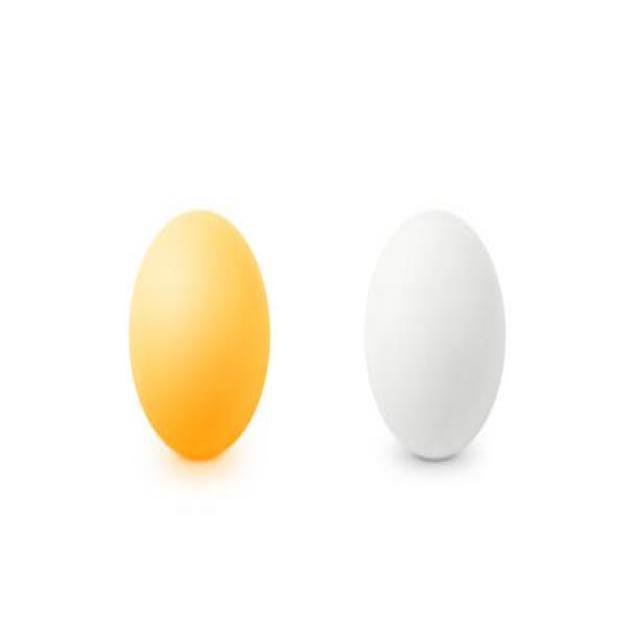oball: (130, 207, 272, 465)
